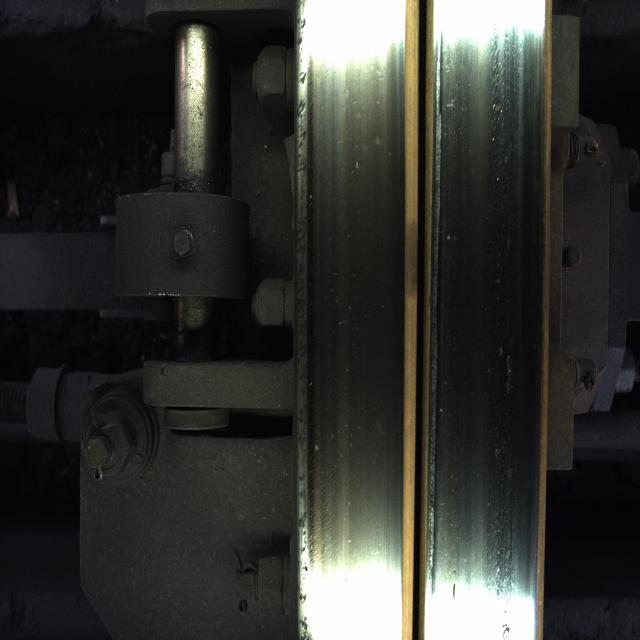break: (442, 28, 528, 596), (316, 25, 389, 624)
